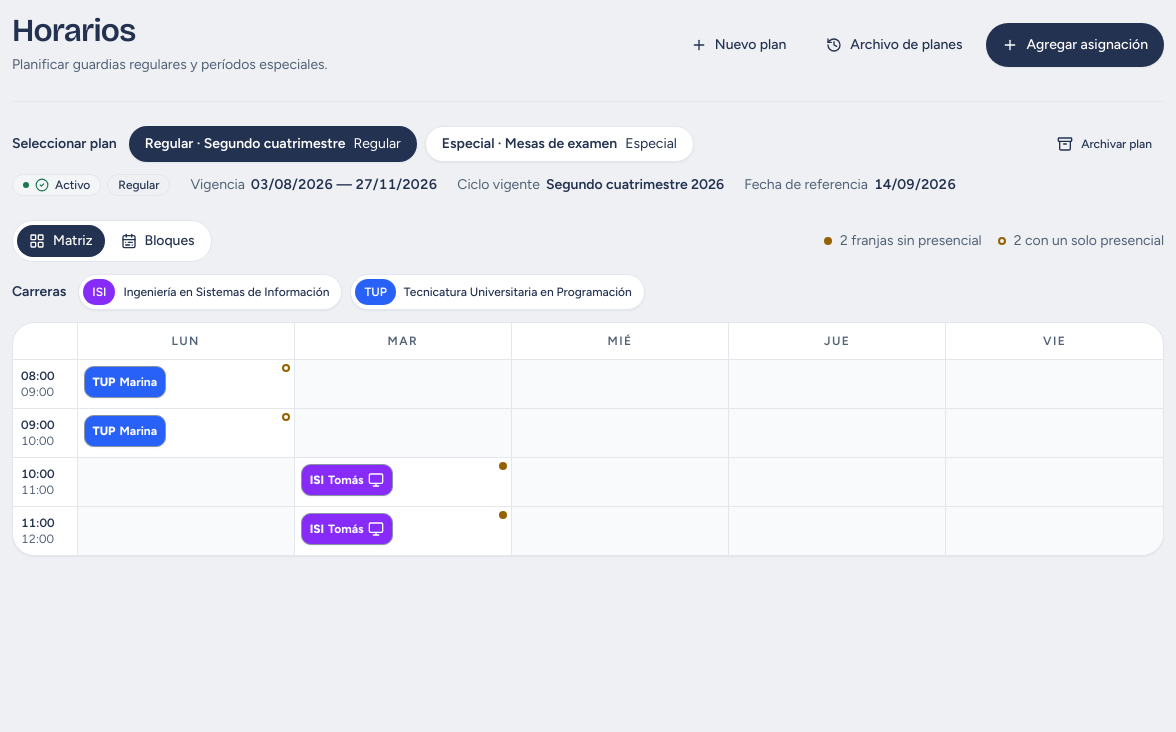
Test case: SchedulesScreen › switches plans through the workspace API and resets the career filter
Click the button "Ingeniería en Sistemas de Información" at (210, 292), box [78,274,342,310]
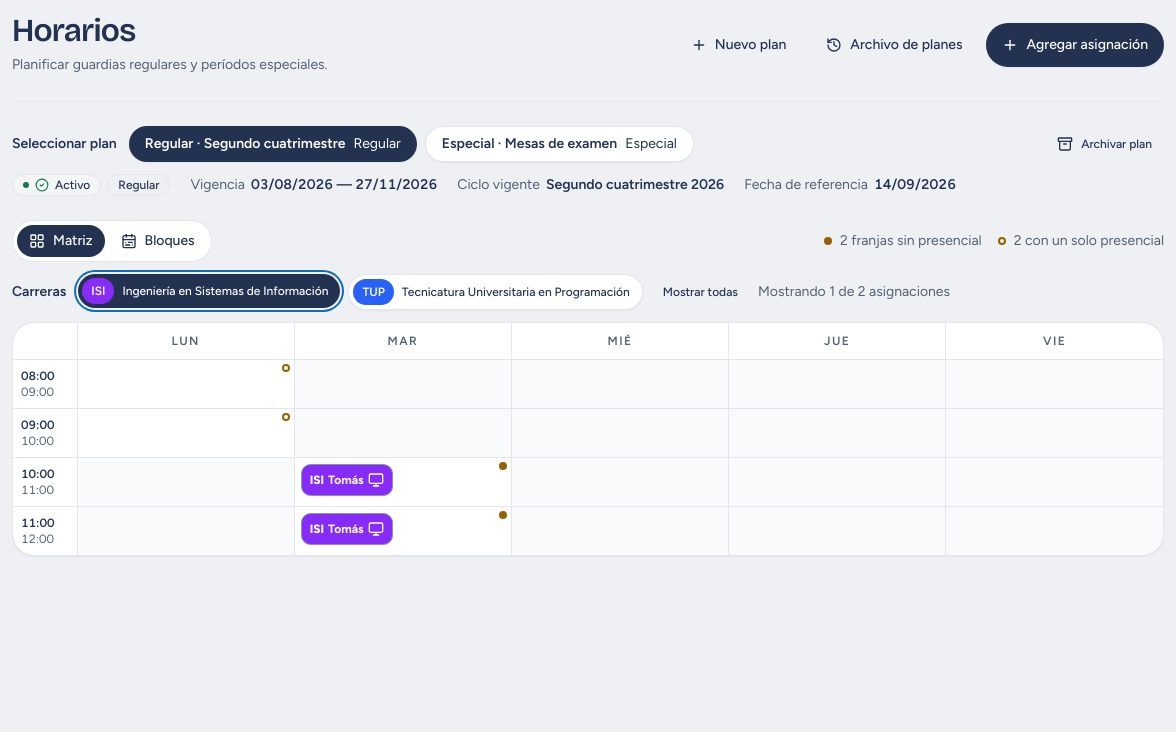
Click the button "Especial · Mesas de examen Especial" at (559, 144), box [425,126,694,162]
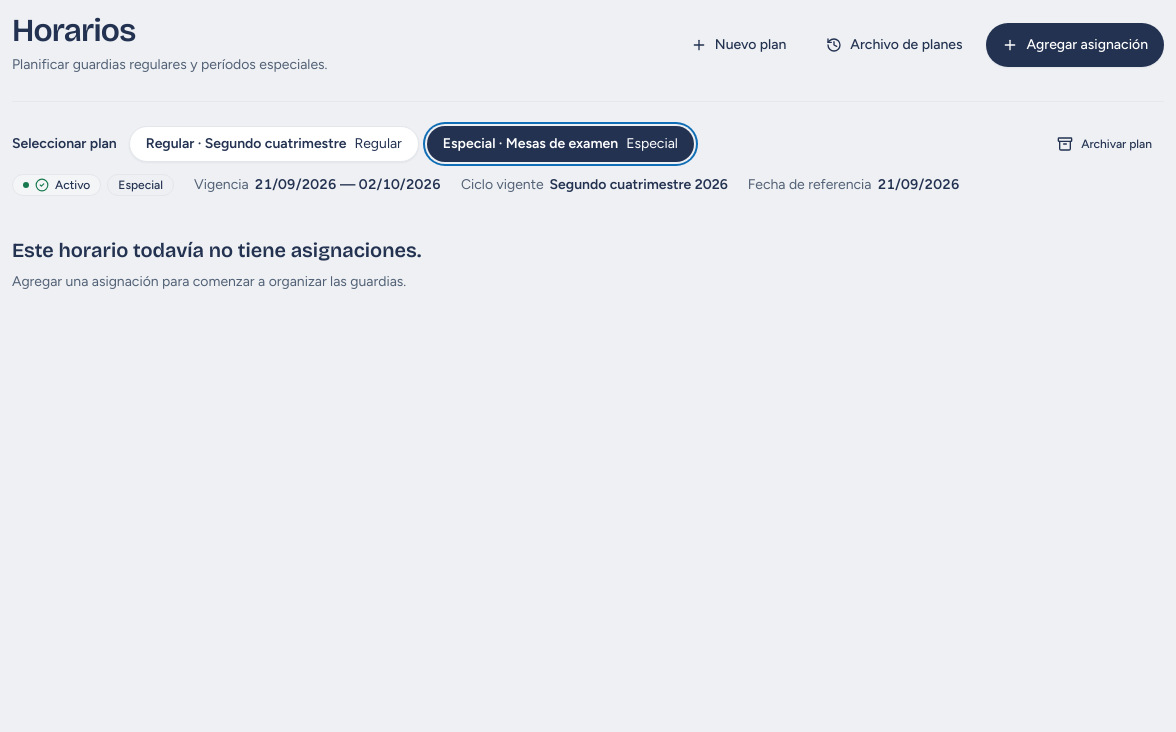
Expected: the message shows "Este horario todavía no tiene asignaciones.", [12,238,421,262]
Expected: the heading "Carreras" is gone
